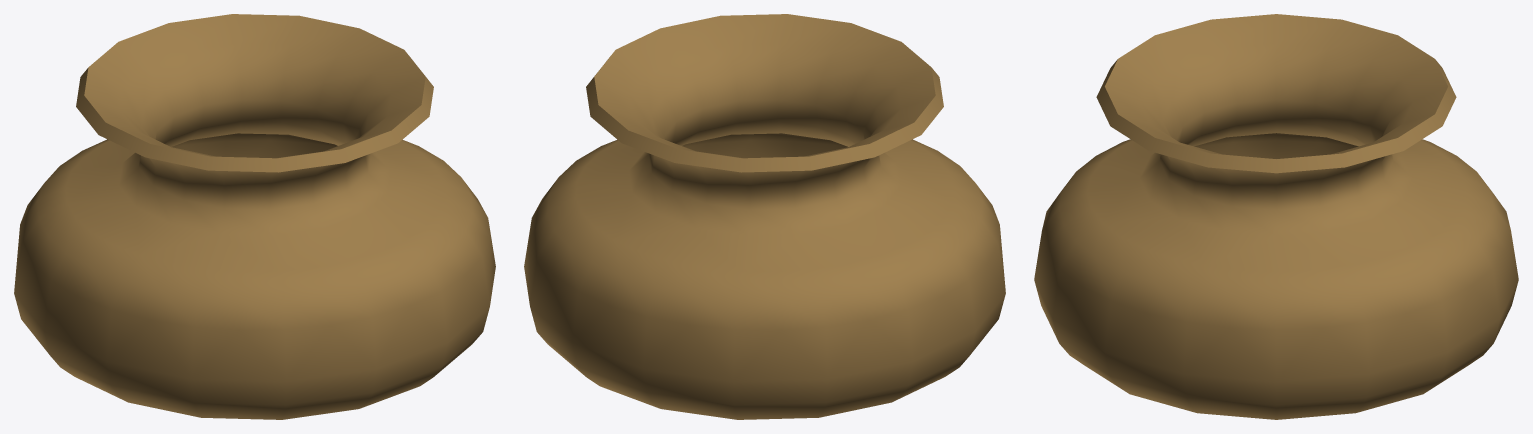
File: garden-basket.fbx
3 renders of one model, left to right at view 1: azimuth 30°, elevation 25°; view 2: azimuth 150°, elevation 25°; view 3: azimuth 270°, elevation 25°, orthographic.
Visible parts, largest first — view 1: nurbsToPoly1; view 2: nurbsToPoly1; view 3: nurbsToPoly1.
Part boxes in pixels (x1,y1,x2,y2): nurbsToPoly1: [14, 14, 495, 419]; nurbsToPoly1: [524, 14, 1005, 419]; nurbsToPoly1: [1034, 14, 1518, 419].
Size of the model in its own units: 9.57 by 5.6 by 9.57.
